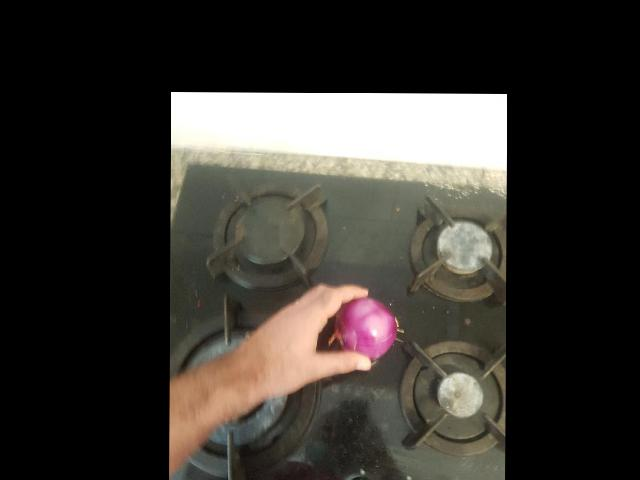onion: (373, 209, 450, 274)
